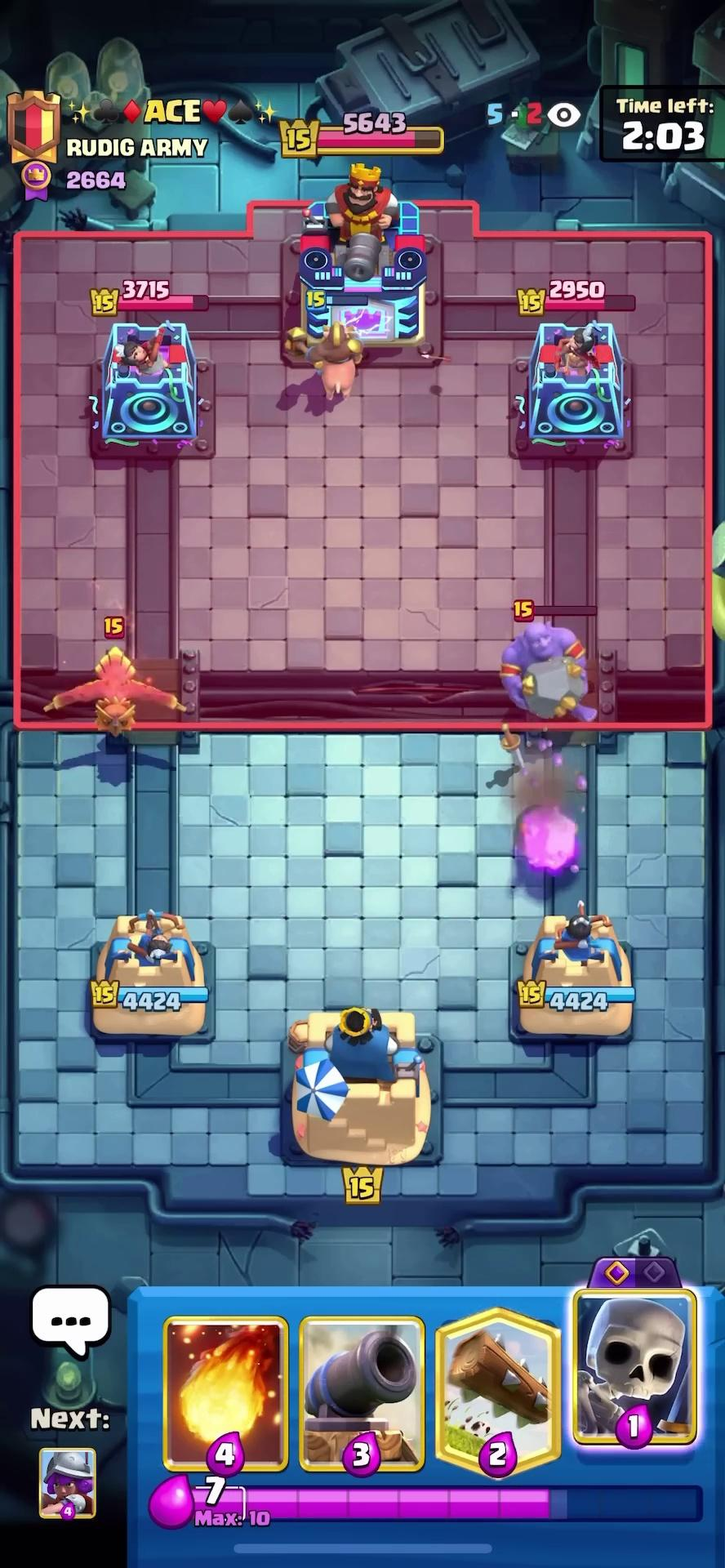hog_rider: (284, 300, 371, 423)
